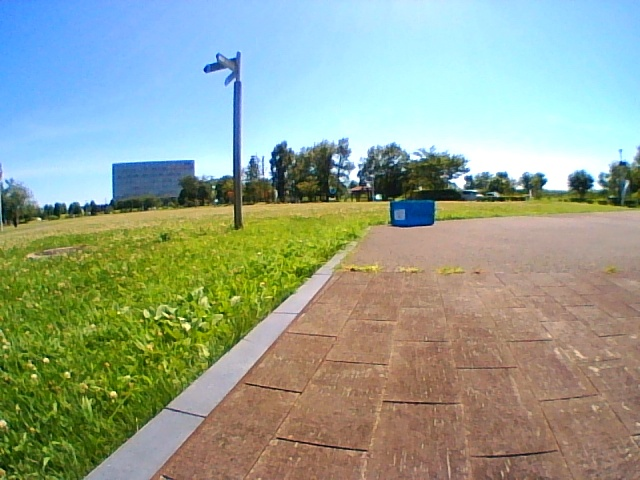blue_box: (391, 201, 435, 226)
tag: (394, 209, 405, 220)
